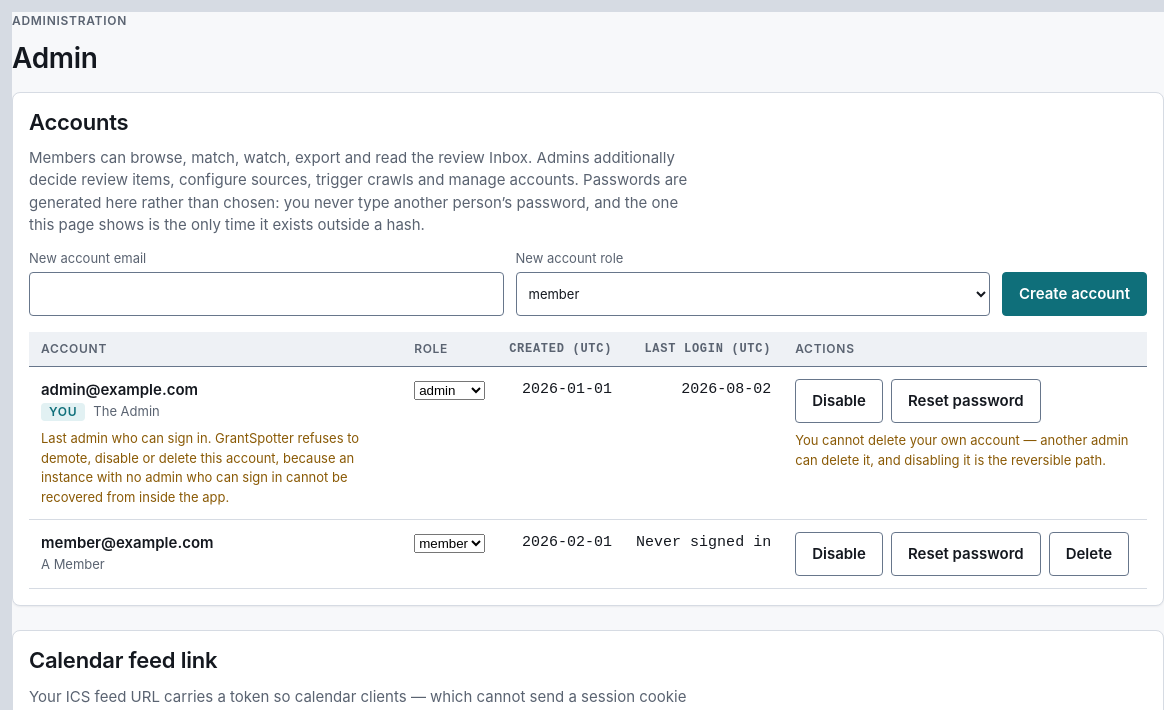
Scenario: Admin console — users › resets a password, shows the new one once, and says how many sessions it killed
Click the button with aria-label "reset password for member@example.com".
click(966, 554)  # box [891,532,1041,576]
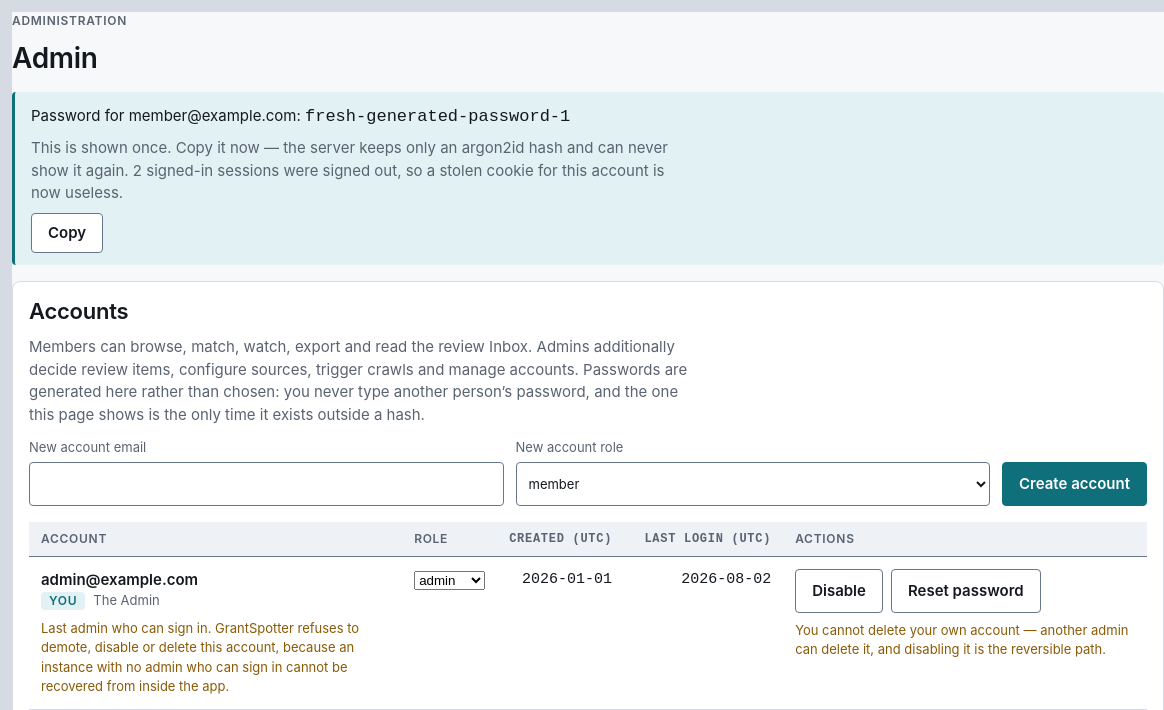
Expected: the message shows "fresh-generated-password-1", [305,107,570,126]
Expected: the message shows "2 signed-in sessions", [31,161,664,202]
